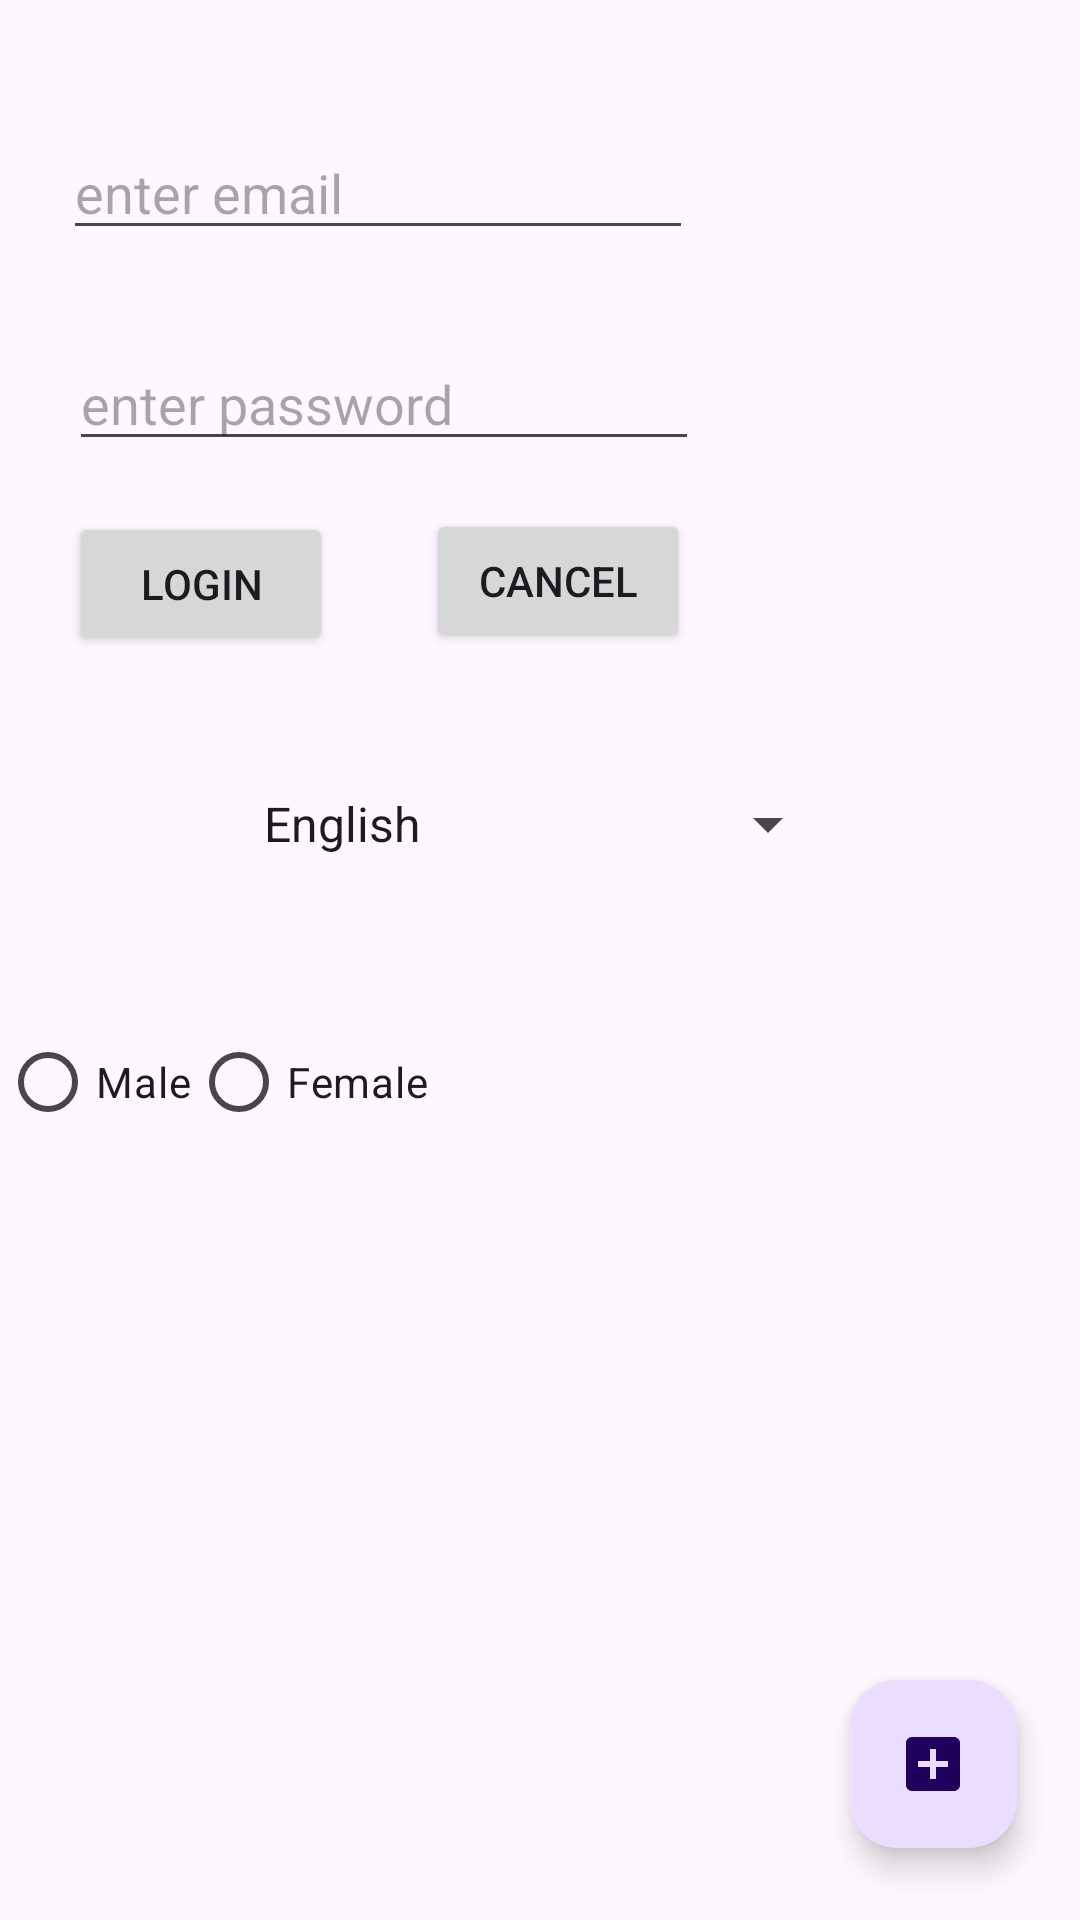

Point at icon controls on the screen. Image size 1080px×1920px, points as point (x, y).
add box: point (933, 1764)
